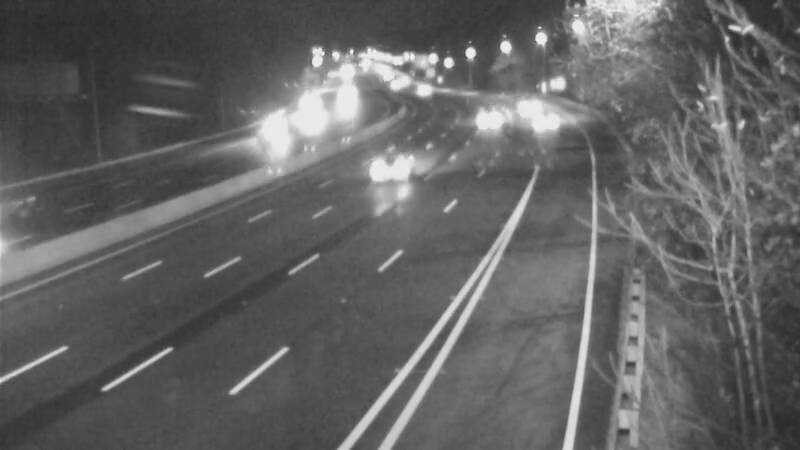vehicle: (351, 127, 431, 207), (397, 64, 447, 114), (498, 85, 548, 135), (519, 95, 569, 145), (464, 95, 514, 145), (247, 104, 297, 154), (282, 87, 332, 137), (316, 80, 366, 130)
